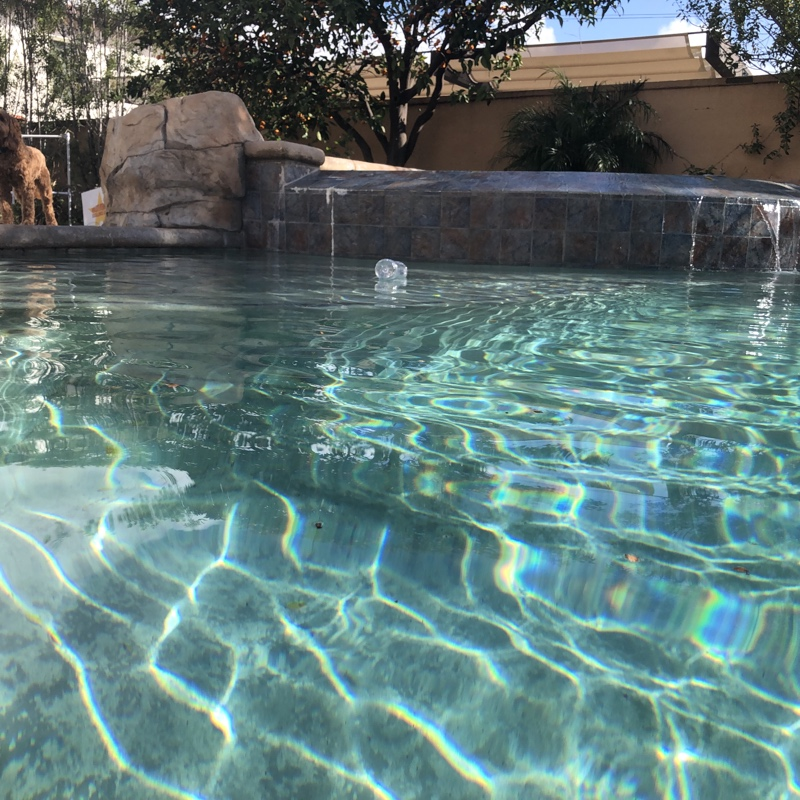Plastic Bottle: (374, 253, 410, 286)
